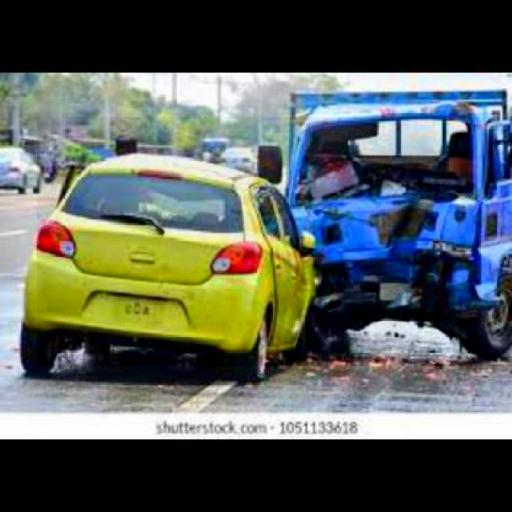小汽车撞小汽车: (37, 117, 512, 366)
